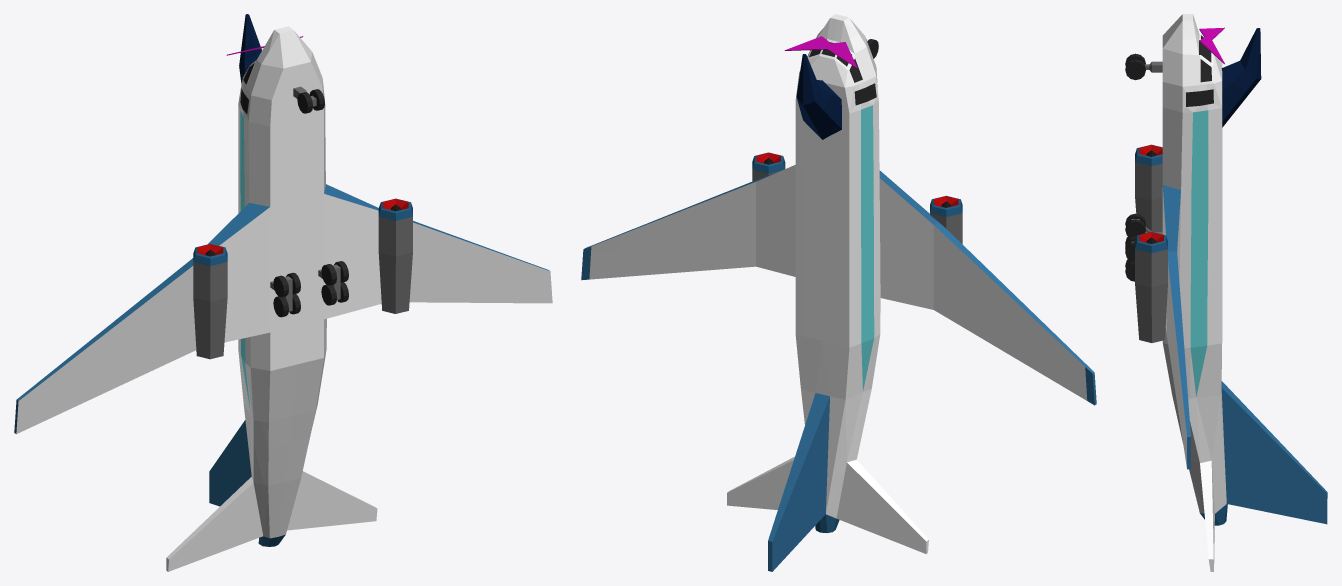
File: boing.fbx
The picture shows the model from 3 angles, left to right: view 1: azimuth 30°, elevation 25°; view 2: azimuth 150°, elevation 25°; view 3: azimuth 270°, elevation 25°; orthographic projection. The views are drawn at different scales.
Visible parts, largest first — view 1: boing; view 2: boing; view 3: boing.
Part boxes in pixels (box(x1,y1,x2,y2)): boing: box(14, 14, 552, 571); boing: box(581, 14, 1096, 571); boing: box(1125, 14, 1327, 571).
Size of the model in its own units: 462 by 432 by 156.
